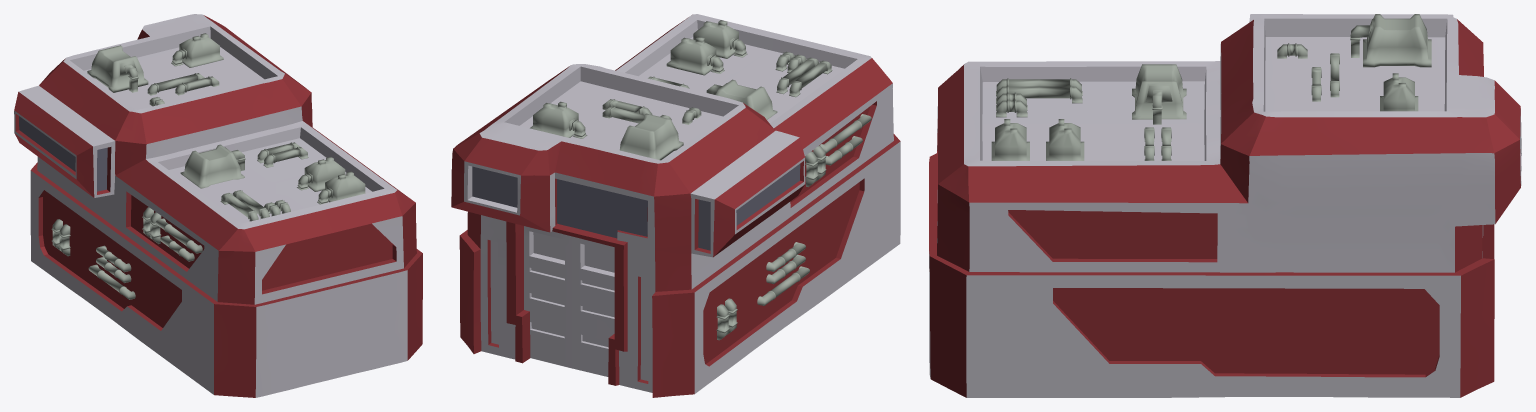
The model's file is Base Garage.fbx.
3 renders of one model, left to right at view 1: azimuth 30°, elevation 25°; view 2: azimuth 150°, elevation 25°; view 3: azimuth 270°, elevation 25°, orthographic. The views are drawn at different scales.
Parts seen in each view (by area): view 1: main_module_low, top details_low, Windows_low; view 2: main_module_low, top details_low, Dorrs_low, Windows_low; view 3: main_module_low, top details_low.
Part boxes in pixels (x1,y1,x2,y2): main_module_low: [14, 14, 422, 397]; top details_low: [51, 33, 365, 299]; Windows_low: [19, 116, 107, 191]; main_module_low: [451, 14, 900, 397]; top details_low: [530, 20, 871, 340]; Dorrs_low: [524, 226, 614, 376]; Windows_low: [472, 164, 800, 250]; main_module_low: [929, 14, 1521, 397]; top details_low: [991, 14, 1431, 160].
Size of the model in its own units: 1429 by 1213 by 2316.
